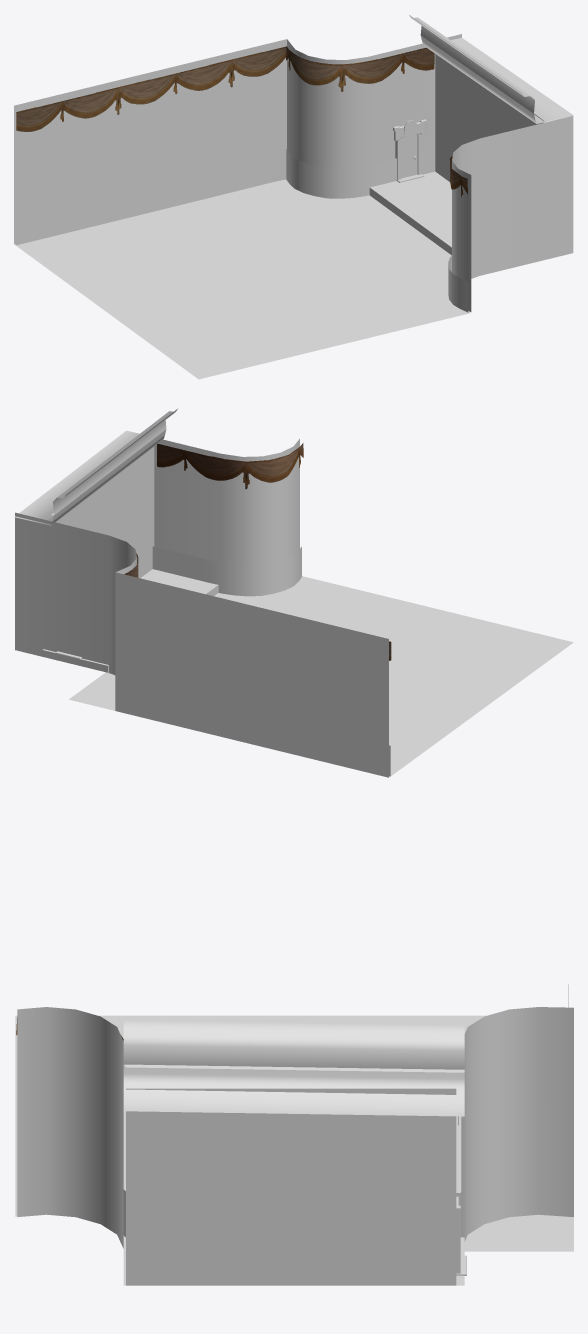
The model's file is ON_Set.fbx.
3 views of the same model, one above another, from view 1: azimuth 30°, elevation 25°; view 2: azimuth 150°, elevation 25°; view 3: azimuth 270°, elevation 25° (orthographic). The views are drawn at different scales.
Parts seen in each view (by area): view 1: On_wall, On_Floor; view 2: On_wall, On_Floor; view 3: On_wall, On_Floor.
Part boxes in pixels (x1=…): On_wall: x1=14, y1=15, x2=573, y2=312; On_Floor: x1=14, y1=179, x2=470, y2=379; On_wall: x1=14, y1=409, x2=391, y2=777; On_Floor: x1=69, y1=576, x2=573, y2=777; On_wall: x1=16, y1=984, x2=573, y2=1285; On_Floor: x1=15, y1=1015, x2=573, y2=1251.
Size of the model in its own units: 25.76 by 10.32 by 20.05.
Materials: 7 (1 with a texture image).
